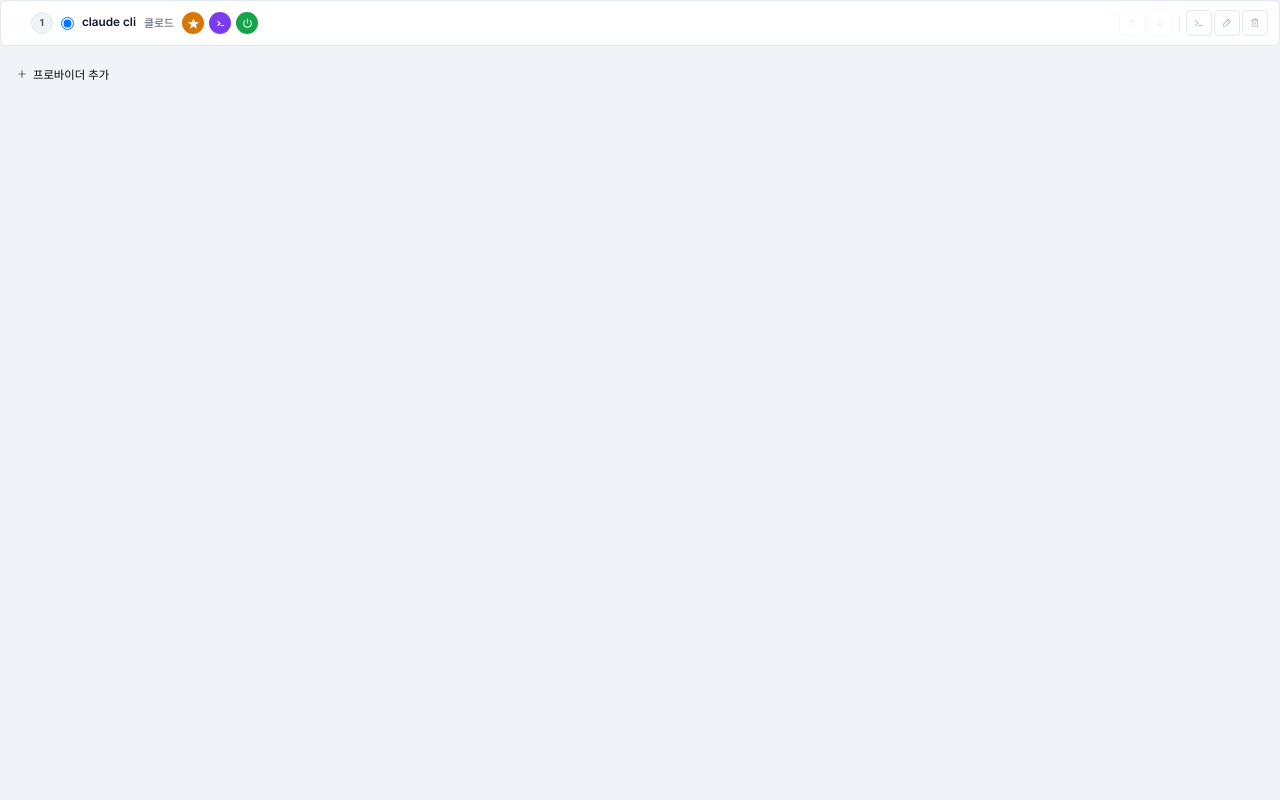
it: the three AiProvider dialogs as they render › deletes the row through the parent, which still owns the list
The width and height of the screenshot is (1280, 800).
What coordinates should you click on to do the following:
click the button named "삭제"
I would click on:
 (1255, 23)
Its box is [1242,10,1268,36].
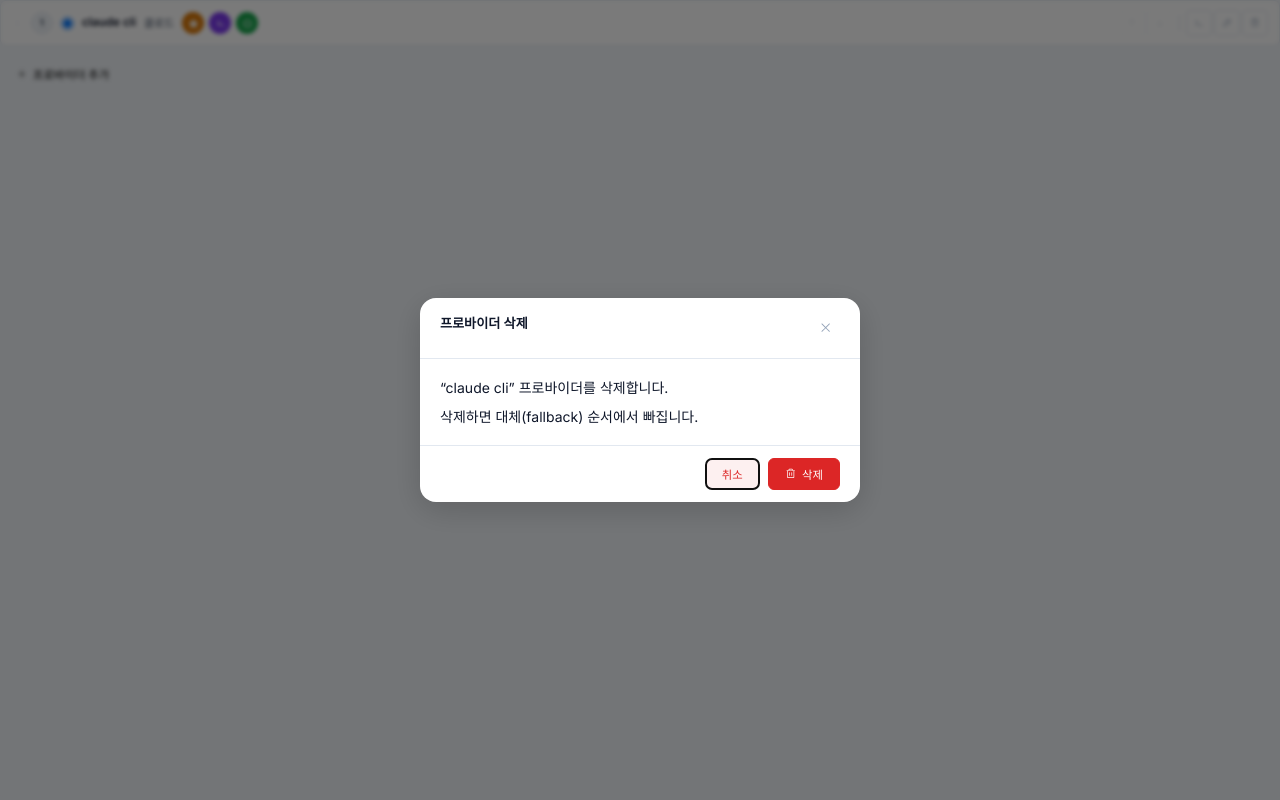
What coordinates should you click on to do the following:
click the button "삭제"
I would click on:
 (804, 474)
Its box is [768,458,840,490].
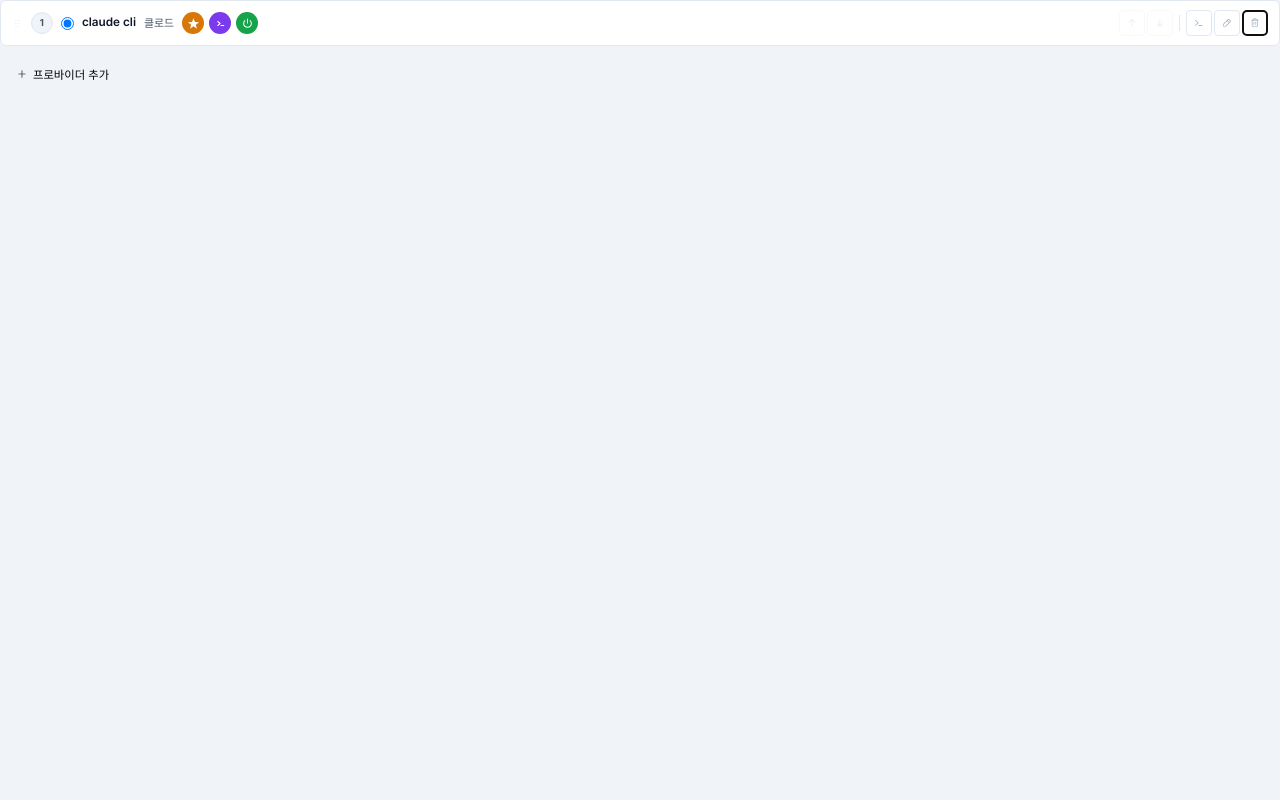
Expected: the dialog with class "fg-dialog-surface" is gone
